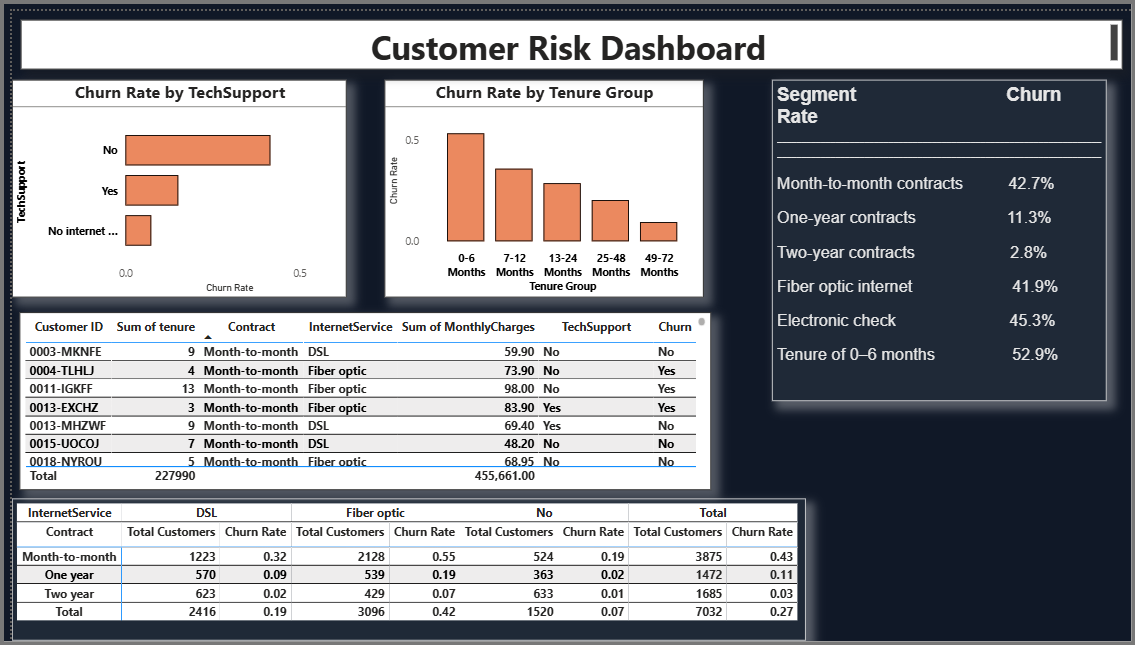

What the dashboard file says about the page in this screenshot:
{"tool":"powerbi","page":{"name":"Retention Insights.","canvas":[1280,720],"ordinal":2},"visuals":[{"type":"clusteredColumnChart","fields":{"Category":["Customers.Tenure Group"],"Y":["Customers.Churn Rate"]},"box":[425.7,78.1,364.5,248.7],"z":0},{"type":"textbox","box":[9.7,9.7,1259.6,57.1],"z":1000},{"type":"clusteredBarChart","fields":{"Category":["Customers.TechSupport"],"Y":["Customers.Churn Rate"]},"box":[0,78.1,382.8,248.7],"z":2000},{"type":"pivotTable","fields":{"Rows":["Customers.Contract"],"Columns":["Customers.InternetService"],"Values":["Customers.Total Customers","Customers.Churn Rate"]},"box":[0,557.2,907.4,162.7],"z":3000},{"type":"tableEx","fields":{"Values":["Customers.Customer ID","Sum(Customers.tenure)","Customers.Contract","Customers.InternetService","Sum(Customers.MonthlyCharges)","Customers.TechSupport","Customers.Churn"]},"box":[9.1,343.7,790.2,203.1],"z":4000},{"type":"textbox","box":[868.4,78.1,382.8,367.1],"z":5000}]}

Visuals, with their boxes in screenshot pixels (x1, y1, x2, y2), scaled from the page's 1280x720 canvas onto the 1135x645 screenshot:
clusteredColumnChart - Customers.Tenure Group x Customers.Churn Rate: {"x1": 377, "y1": 70, "x2": 701, "y2": 293}
textbox: {"x1": 9, "y1": 9, "x2": 1126, "y2": 60}
clusteredBarChart - Customers.TechSupport x Customers.Churn Rate: {"x1": 0, "y1": 70, "x2": 339, "y2": 293}
pivotTable - Customers.Contract x Customers.InternetService: {"x1": 0, "y1": 499, "x2": 805, "y2": 644}
tableEx - Customers.Customer ID x Sum(Customers.tenure): {"x1": 8, "y1": 308, "x2": 709, "y2": 490}
textbox: {"x1": 770, "y1": 70, "x2": 1109, "y2": 399}
